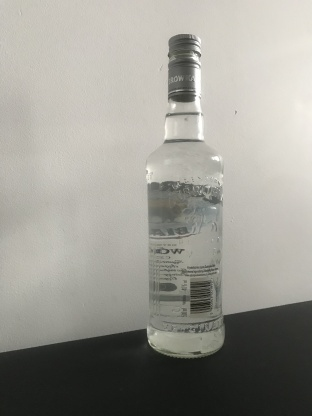nakretka: (166, 32, 202, 102)
